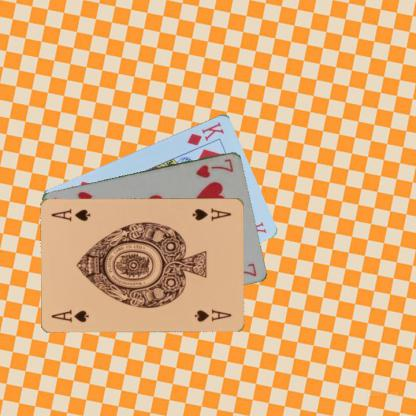7h: (194, 156, 235, 179)
As: (190, 205, 233, 221), (48, 307, 90, 323)
Kd: (185, 118, 225, 147)
